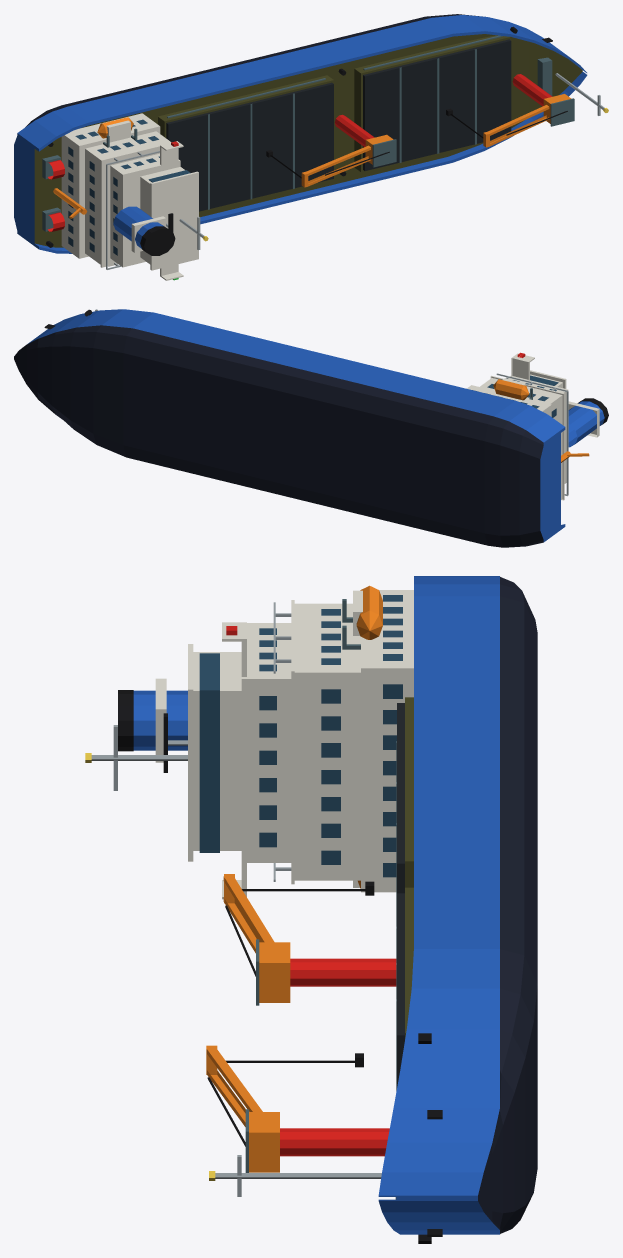
3 views of the same model, one above another, from view 1: azimuth 30°, elevation 25°; view 2: azimuth 150°, elevation 25°; view 3: azimuth 270°, elevation 25° (orthographic). The views are drawn at different scales.
Parts seen in each view (by area): view 1: default_hull, default_cover0, default_cover1, default_bridge_roof, default_house0, default_house2, default_house1, default_coaming1, default_house1_roof, default_coaming0, default_funnel, default_funnel_top (+12 smaller); view 2: default_hull, default_funnel, default_house1, default_boat1, default_house0, default_house2, default_house1_roof, default_bridge_wing1; view 3: default_hull, default_house1, default_house2, default_house0, default_bridge, default_bridge_glass, default_crane_fore_post, default_crane_aft_post, default_funnel, default_house1_fwin0, default_crane_aft_house, default_crane_fore_house (+14 smaller).
Part boxes in pixels (x1,y1,x2,y2): default_hull: [14, 14, 587, 253]; default_cover0: [166, 82, 333, 211]; default_cover1: [363, 39, 511, 170]; default_bridge_roof: [150, 171, 198, 270]; default_house0: [61, 113, 160, 258]; default_house2: [110, 153, 180, 267]; default_house1: [85, 131, 171, 264]; default_coaming1: [354, 35, 511, 171]; default_house1_roof: [100, 145, 159, 267]; default_coaming0: [158, 75, 333, 137]; default_funnel: [113, 206, 164, 248]; default_funnel_top: [140, 226, 175, 255]; default_hull: [14, 309, 565, 547]; default_funnel: [568, 401, 604, 447]; default_house1: [480, 378, 562, 499]; default_boat1: [493, 379, 529, 400]; default_house0: [467, 385, 551, 416]; default_house2: [508, 376, 568, 483]; default_house1_roof: [490, 375, 564, 500]; default_bridge_wing1: [511, 357, 529, 380]; default_hull: [378, 576, 537, 1234]; default_house1: [294, 603, 360, 880]; default_house2: [241, 623, 291, 862]; default_house0: [361, 590, 413, 892]; default_bridge: [193, 652, 241, 850]; default_bridge_glass: [199, 653, 219, 852]; default_crane_fore_post: [280, 1128, 389, 1156]; default_crane_aft_post: [290, 958, 396, 986]; default_funnel: [133, 690, 187, 750]; default_house1_fwin0: [321, 689, 340, 864]; default_crane_aft_house: [259, 942, 290, 1002]; default_crane_fore_house: [249, 1112, 279, 1172].
Bounding box in the file's own units: 28 × 7.06 × 10.24.
